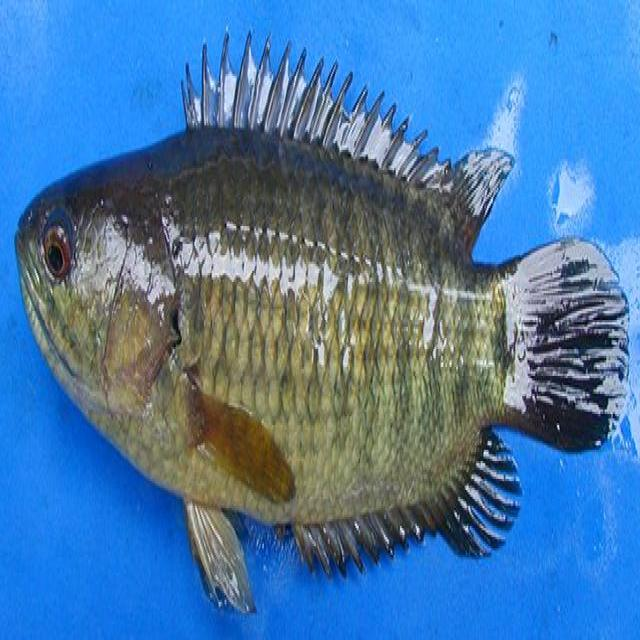Climbing-Perch: (4, 31, 634, 608)
